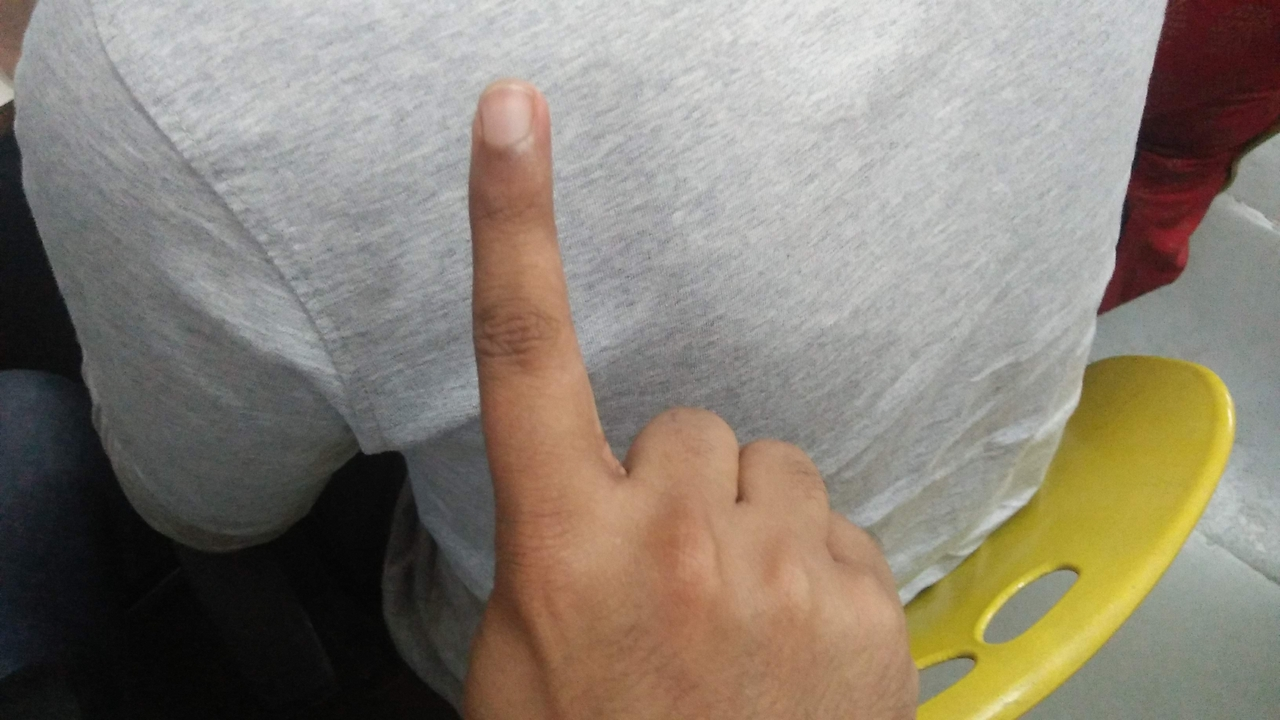fingertip: (466, 78, 554, 150)
